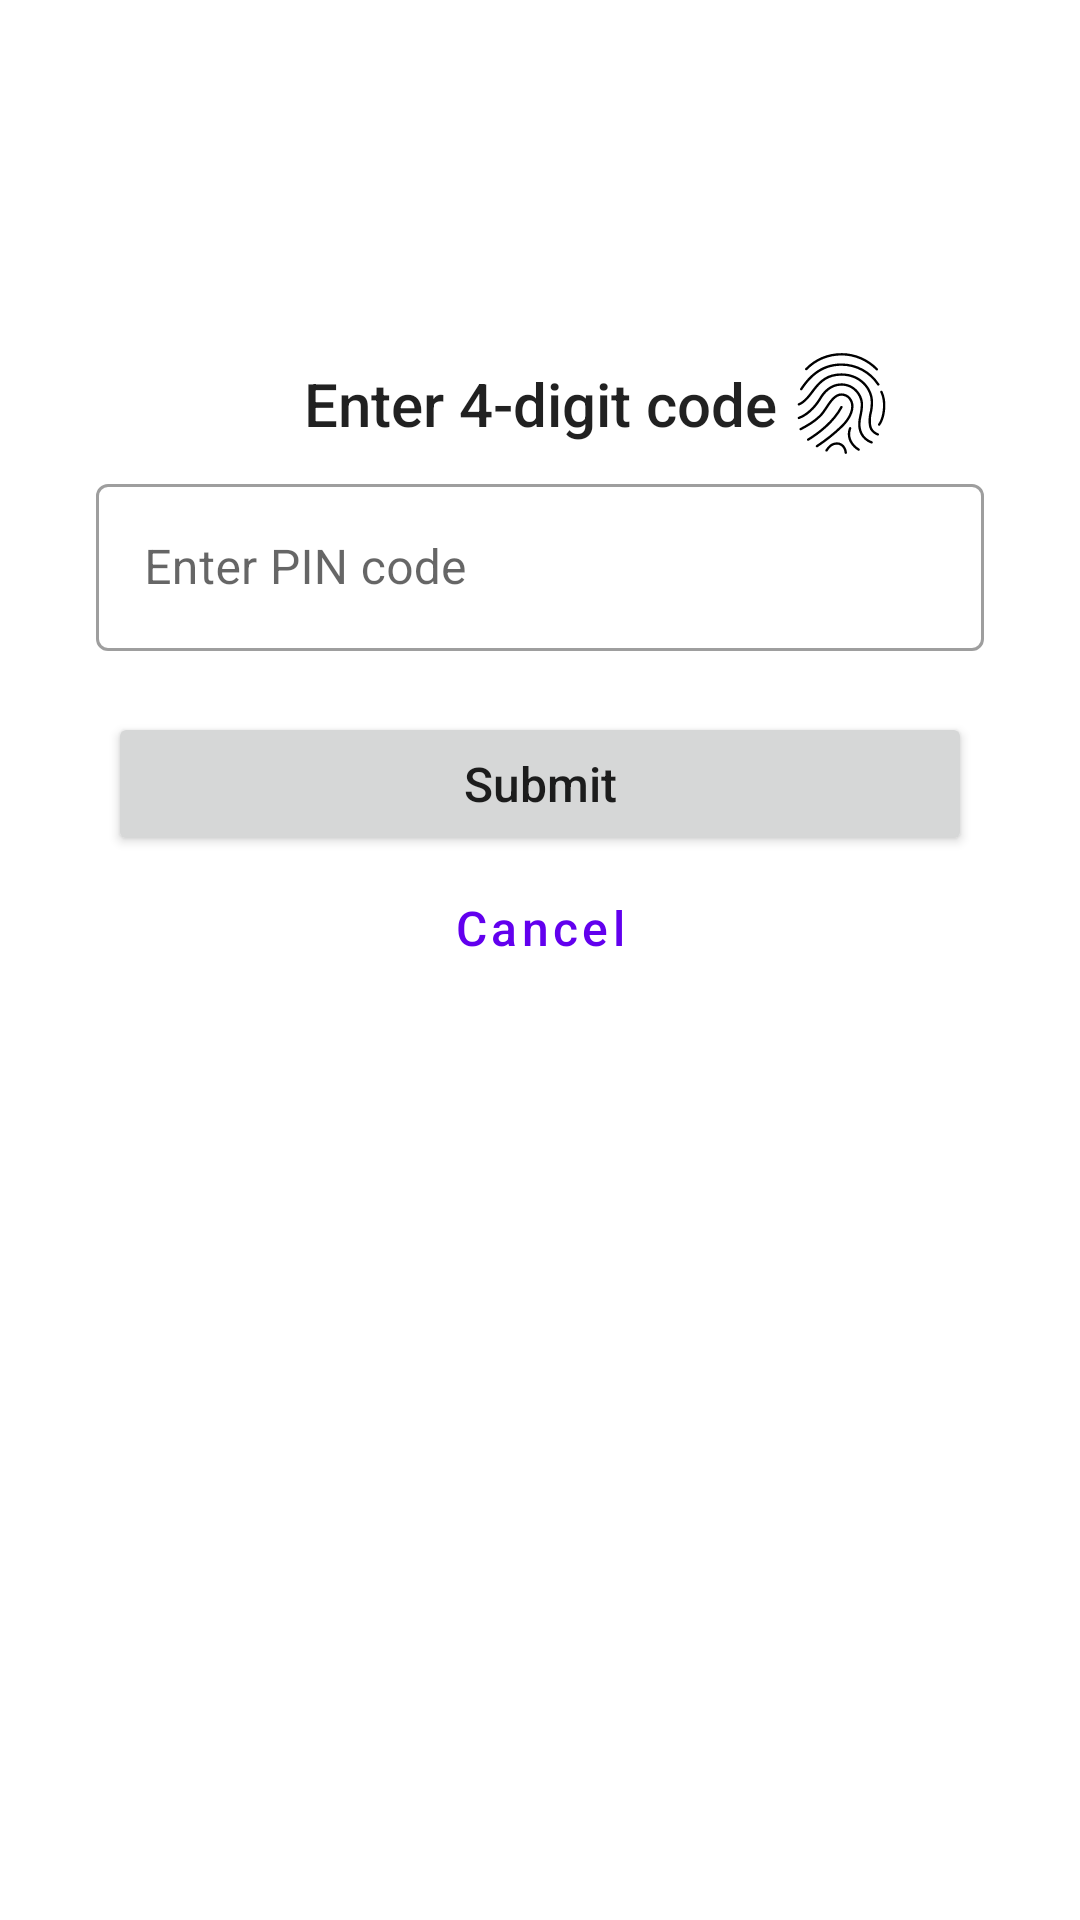

Screen size 1080*1920. Icon name, then its center in pixels as (x,y):
touch id: (841,403)
